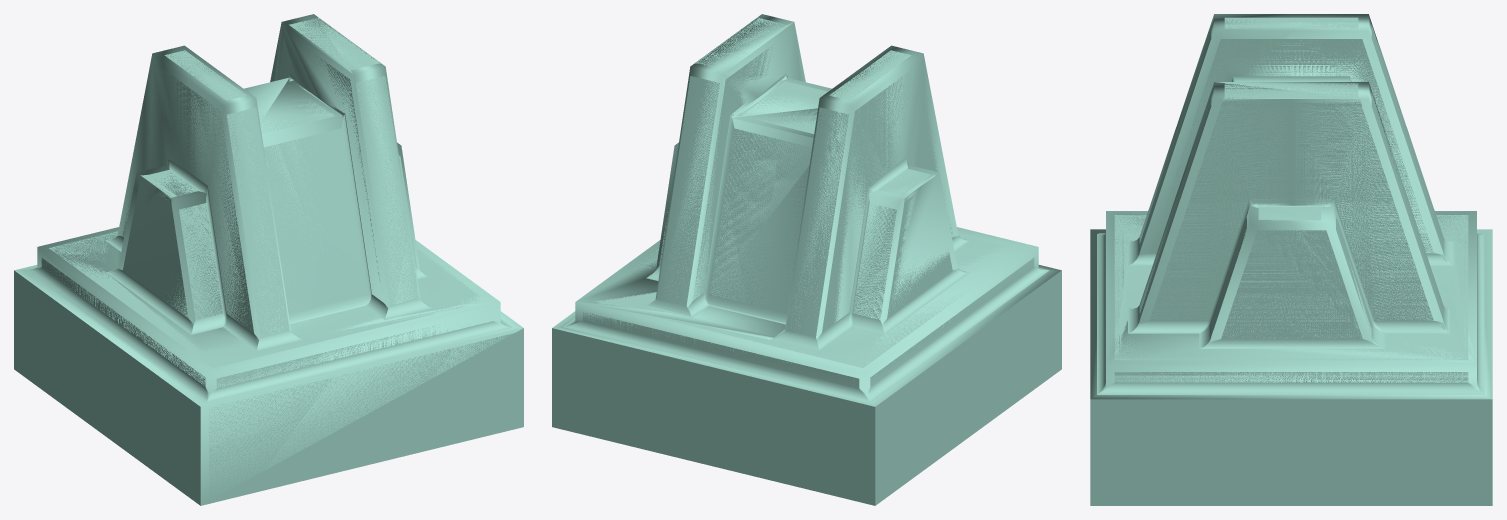
Rendered from space-kit__machine_generatorLarge.glb.
3 renders of one model, left to right at view 1: azimuth 30°, elevation 25°; view 2: azimuth 150°, elevation 25°; view 3: azimuth 270°, elevation 25°, orthographic. The views are drawn at different scales.
Visible parts, largest first — view 1: L0_accent, L1_accent; view 2: L0_accent, L1_accent; view 3: L0_accent, L1_accent.
Part boxes in pixels (left/top/right/bottom): L0_accent: left=19, top=17, right=515, bottom=501; L1_accent: left=14, top=14, right=523, bottom=505; L0_accent: left=560, top=17, right=1056, bottom=500; L1_accent: left=552, top=14, right=1061, bottom=505; L0_accent: left=1097, top=17, right=1484, bottom=503; L1_accent: left=1090, top=14, right=1492, bottom=505.
Bounding box in the file's own units: 1 × 1 × 1.
